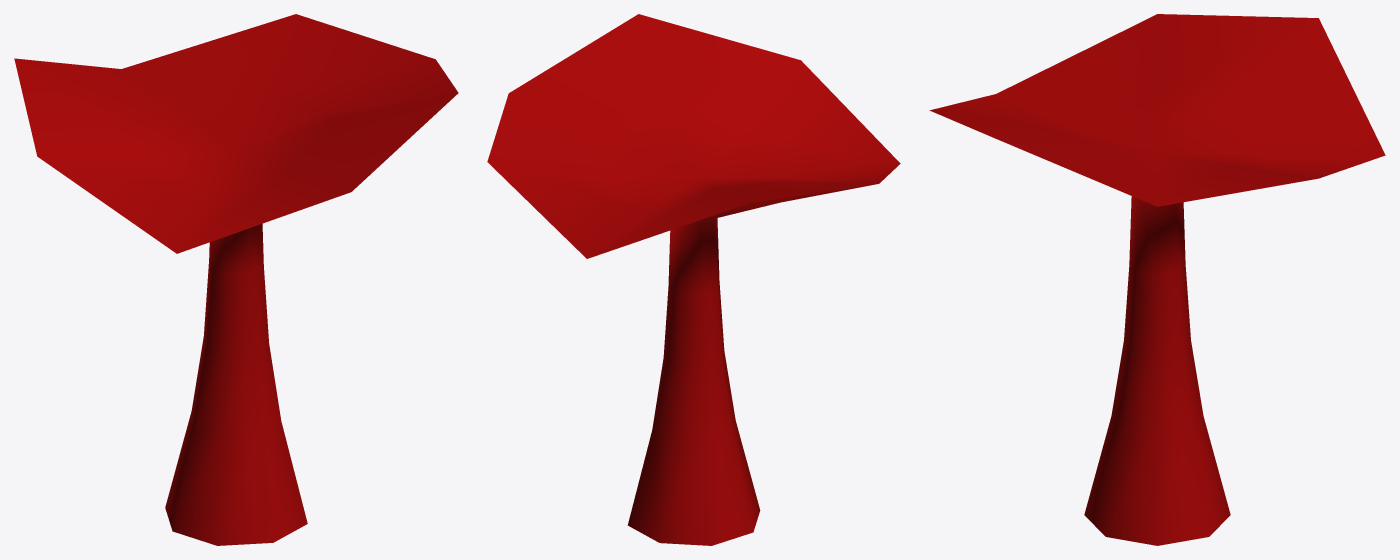
Rendered from Mushroom1_pickup.fbx.
3 views of the same model, side by side, from view 1: azimuth 30°, elevation 25°; view 2: azimuth 150°, elevation 25°; view 3: azimuth 270°, elevation 25° (orthographic). The views are drawn at different scales.
Parts seen in each view (by area): view 1: pCylinder1; view 2: pCylinder1; view 3: pCylinder1.
Boxes of the visible parts, x1,y1,x2,y2 form: pCylinder1: (14, 14, 458, 545); pCylinder1: (487, 14, 900, 545); pCylinder1: (929, 14, 1385, 545).
Bounding box in the file's own units: 0.419 × 0.4501 × 0.419.
